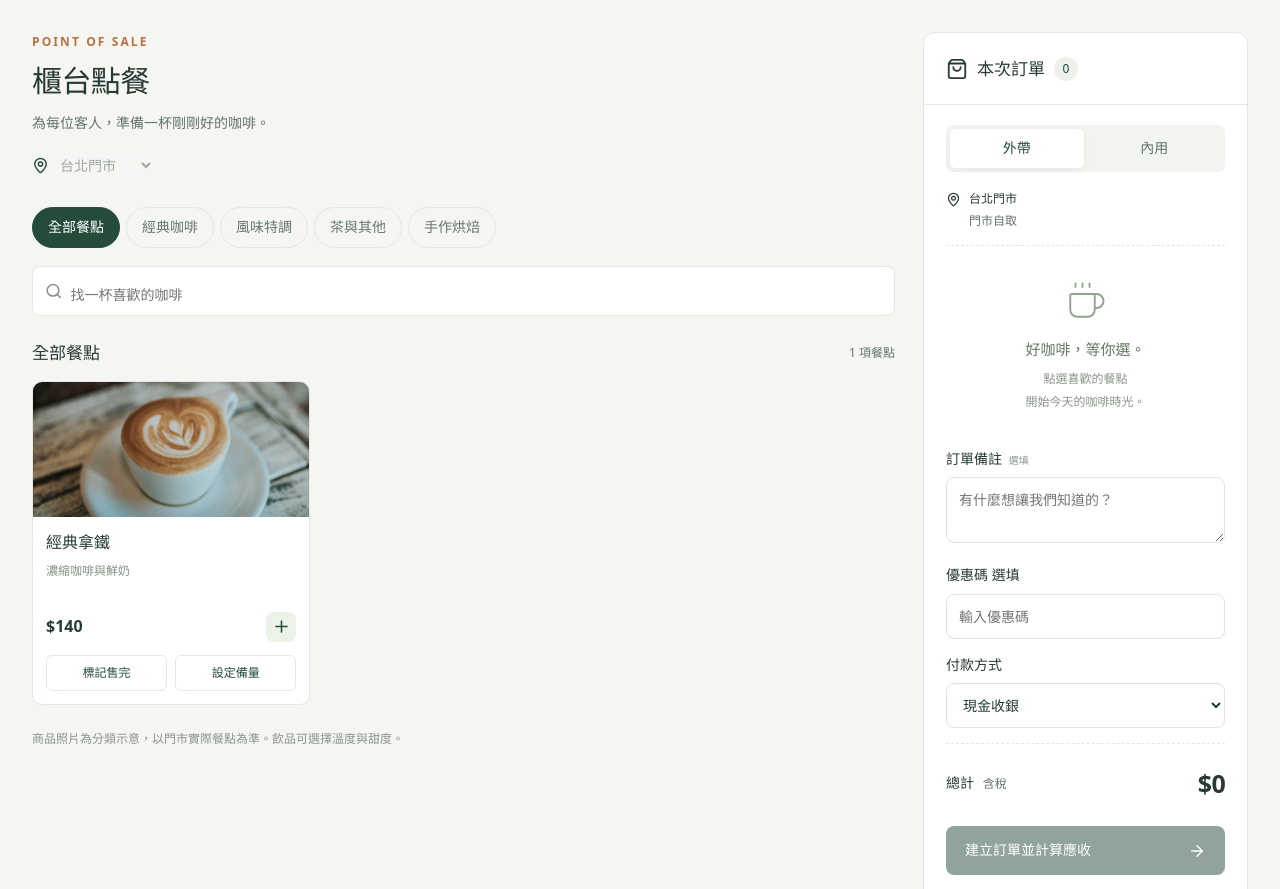
MenuView 可見性 › 門市現金在建單前不顯示實收與找零
Click the button "經典拿鐵 濃縮咖啡與鮮奶 $140 標記售完 設定備量" at (171, 449), box [32,381,310,705]
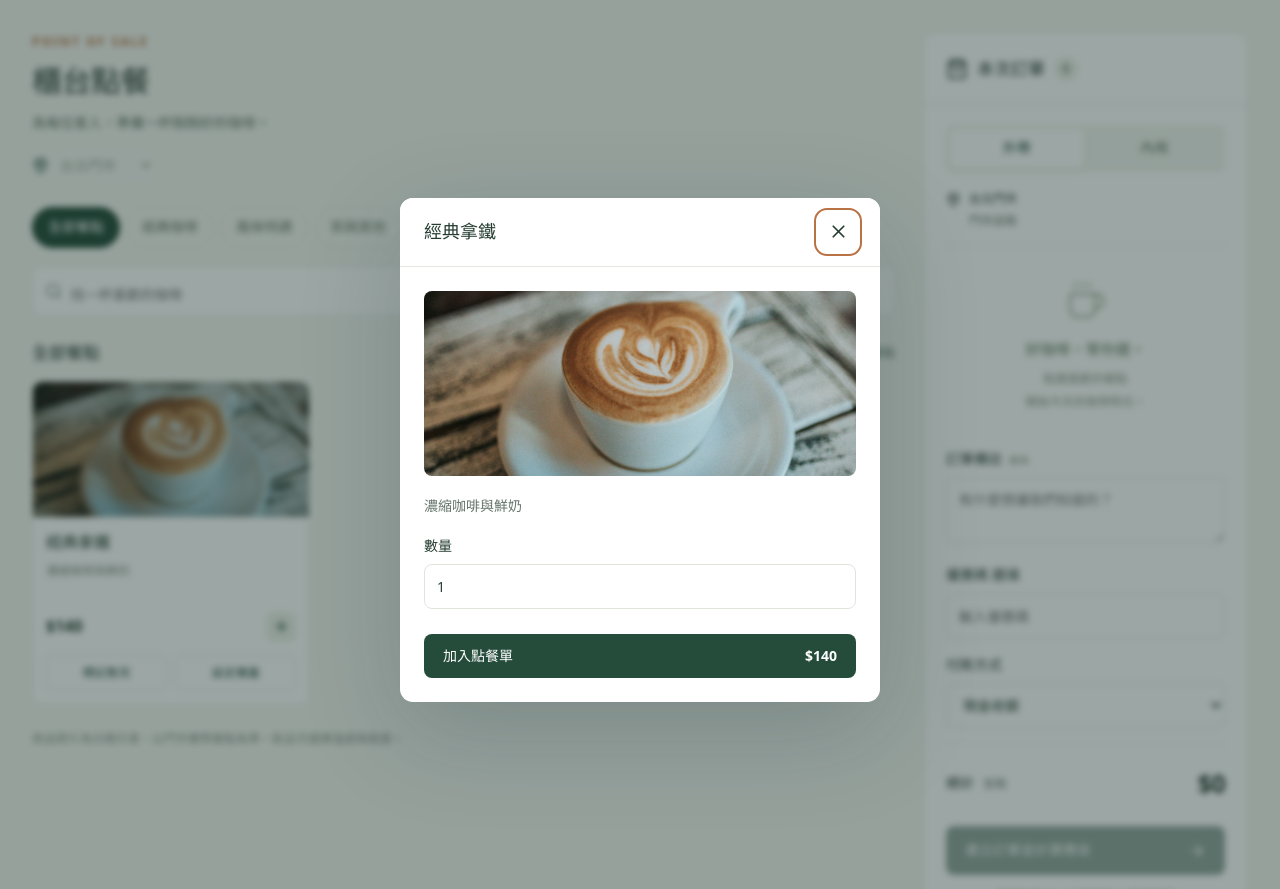
Result: the button "加入點餐單 $140" is shown
Click the button "加入點餐單 $140" at (478, 656), box [424,634,856,678]
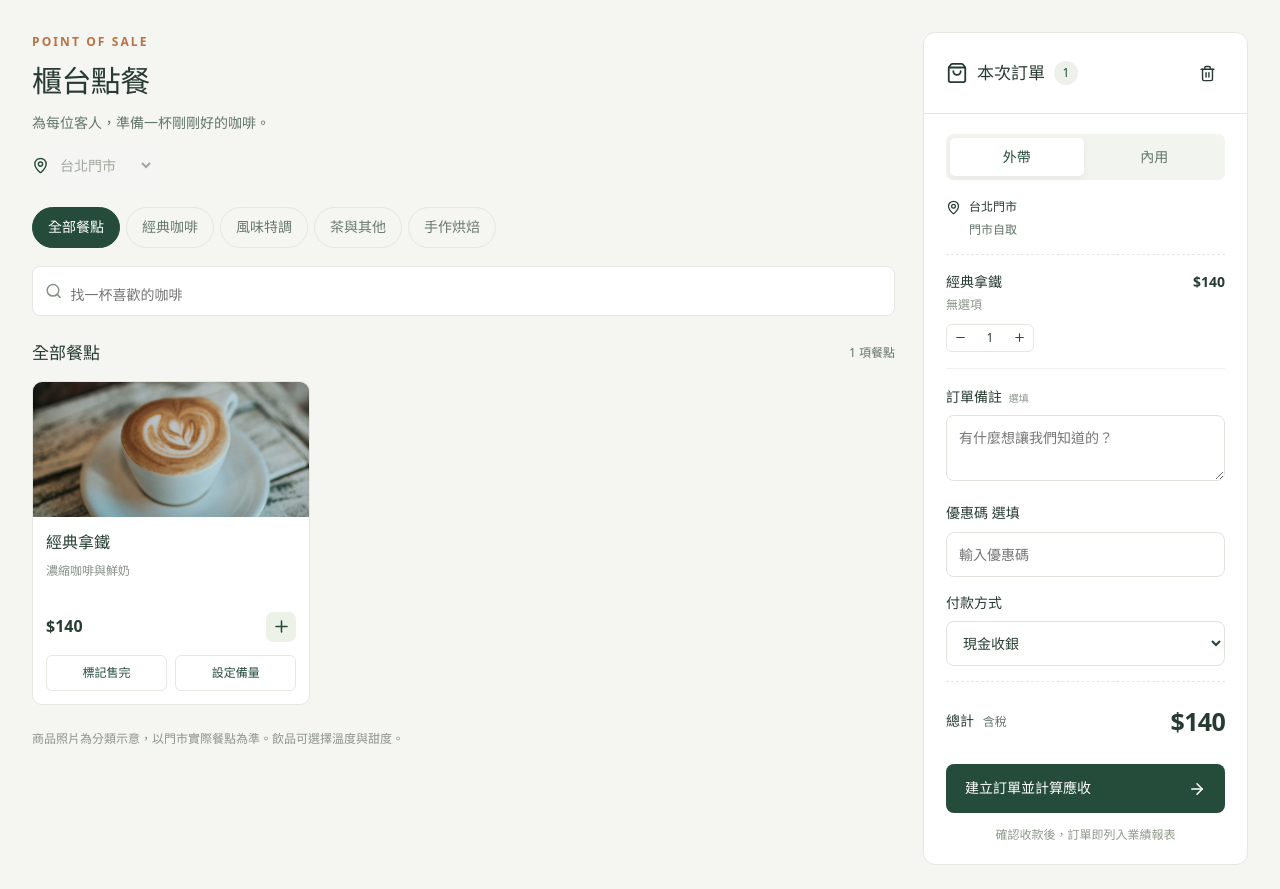
Expected: the button with class "checkout" reads "建立訂單並計算應收", [946,764,1225,813]
Result: the button with class "checkout" is enabled at [946,764,1225,813]
